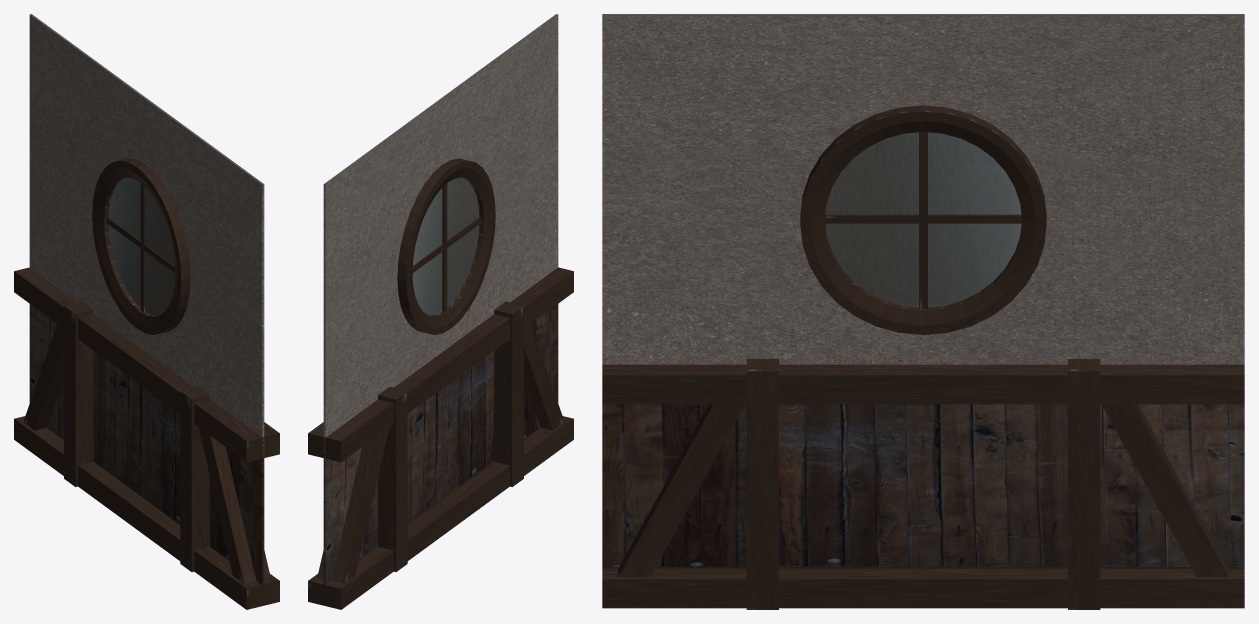
The model's file is OutdoorArchitecture_BasicWall04_Window02_NoEdges_BShortt.fbx.
The picture shows the model from 3 angles, left to right: view 1: azimuth 30°, elevation 25°; view 2: azimuth 150°, elevation 25°; view 3: azimuth 270°, elevation 25°; orthographic projection. The views are drawn at different scales.
Visible parts, largest first — view 1: OutdoorArchitecture_BasicWall04_Window02_NoEdges_BShortt; view 2: OutdoorArchitecture_BasicWall04_Window02_NoEdges_BShortt; view 3: OutdoorArchitecture_BasicWall04_Window02_NoEdges_BShortt.
Boxes of the visible parts, <box> form: OutdoorArchitecture_BasicWall04_Window02_NoEdges_BShortt: <box>14,14,279,609</box>; OutdoorArchitecture_BasicWall04_Window02_NoEdges_BShortt: <box>308,14,573,609</box>; OutdoorArchitecture_BasicWall04_Window02_NoEdges_BShortt: <box>602,14,1244,609</box>.
Size of the model in its own units: 28.5 by 300 by 300.
